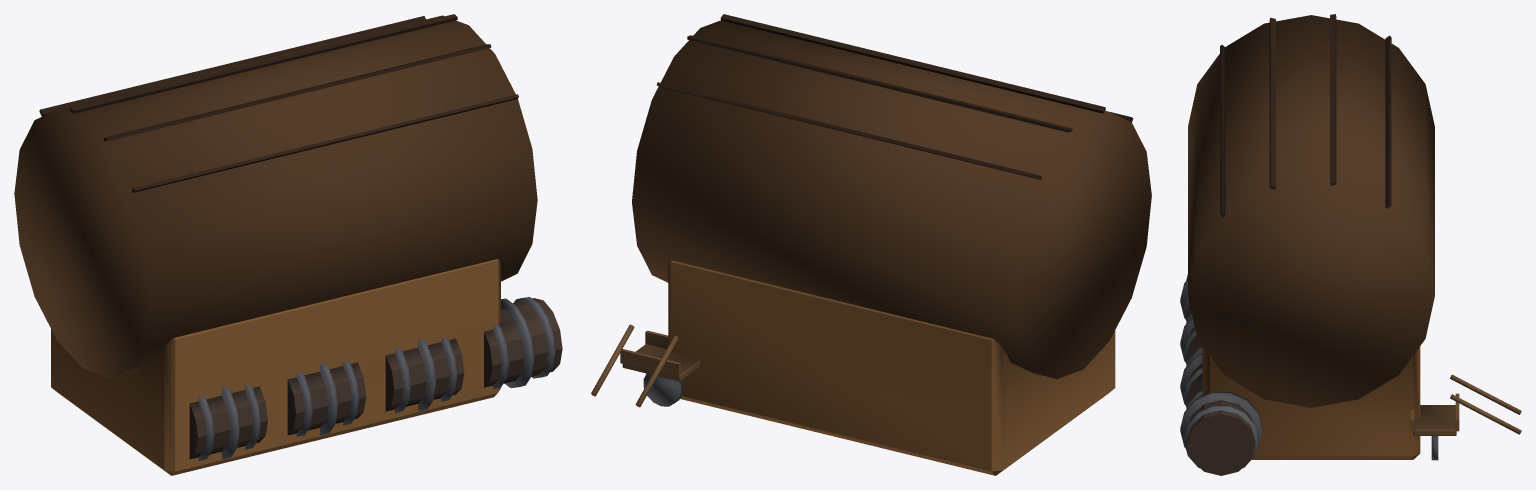
The model's file is house_storage.glb.
The picture shows the model from 3 angles, left to right: view 1: azimuth 30°, elevation 25°; view 2: azimuth 150°, elevation 25°; view 3: azimuth 270°, elevation 25°; orthographic projection. The views are drawn at different scales.
Parts seen in each view (by area): view 1: house_storage; view 2: house_storage; view 3: house_storage.
Part boxes in pixels (bbox=[...]): house_storage: bbox=[14, 14, 562, 475]; house_storage: bbox=[591, 14, 1151, 475]; house_storage: bbox=[1180, 14, 1521, 475].
Size of the model in its own units: 2.92 by 2.21 by 2.35.
